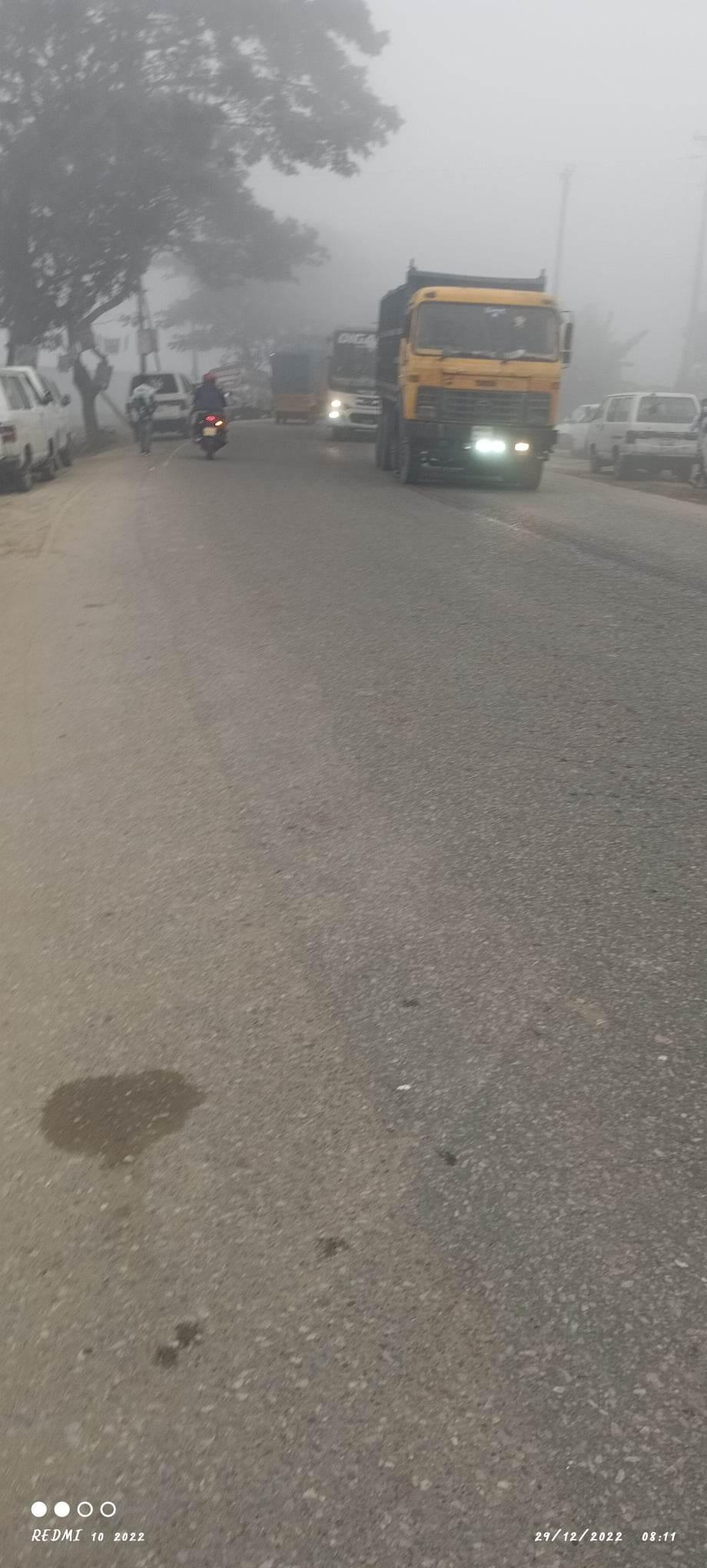Bike: (184, 364, 257, 453)
Bus: (320, 300, 405, 439)
Car: (586, 375, 707, 501), (5, 358, 91, 483), (121, 365, 189, 448)
Truck: (363, 242, 585, 501)
